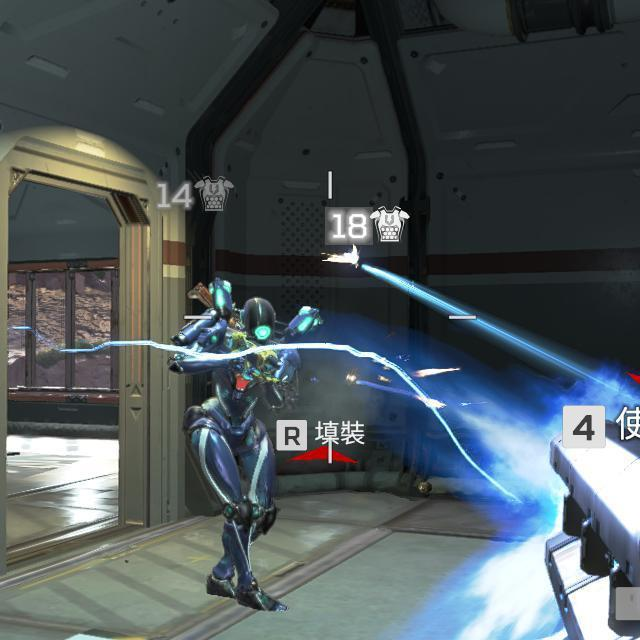avatar: (165, 277, 325, 614)
